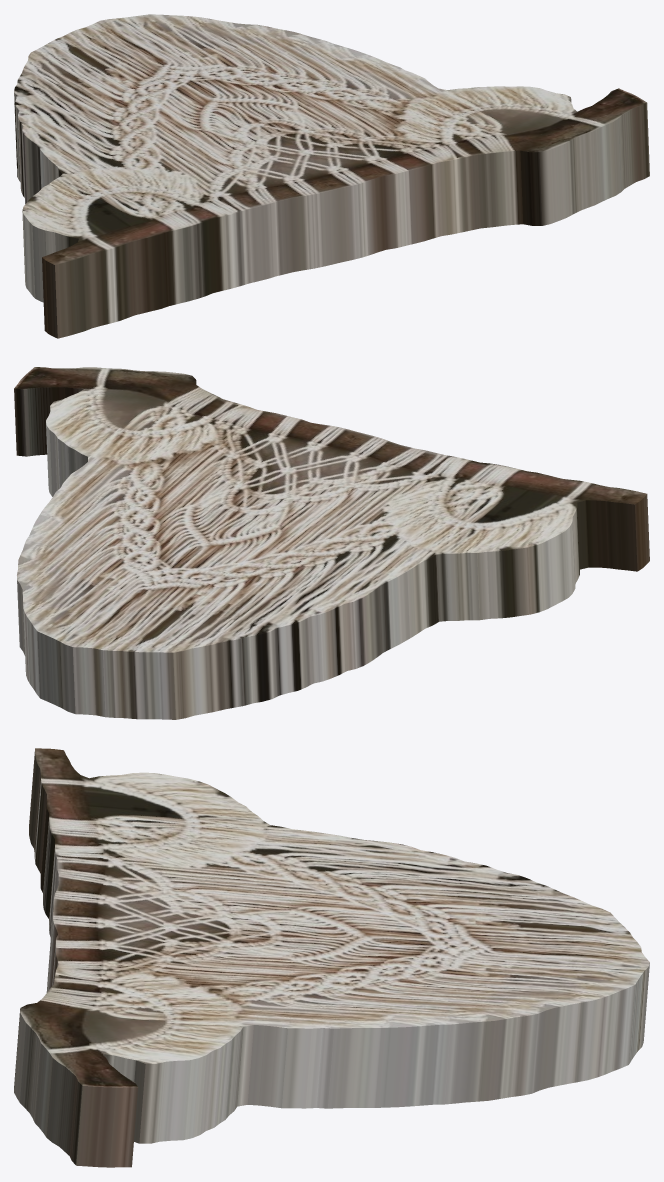
3 renders of one model, top to bottom at view 1: azimuth 30°, elevation 25°; view 2: azimuth 150°, elevation 25°; view 3: azimuth 270°, elevation 25°, orthographic. The views are drawn at different scales.
Bounding box in the file's own units: 0.5328 × 0.0893 × 0.4275.
Materials: 1 (1 with a texture image).
